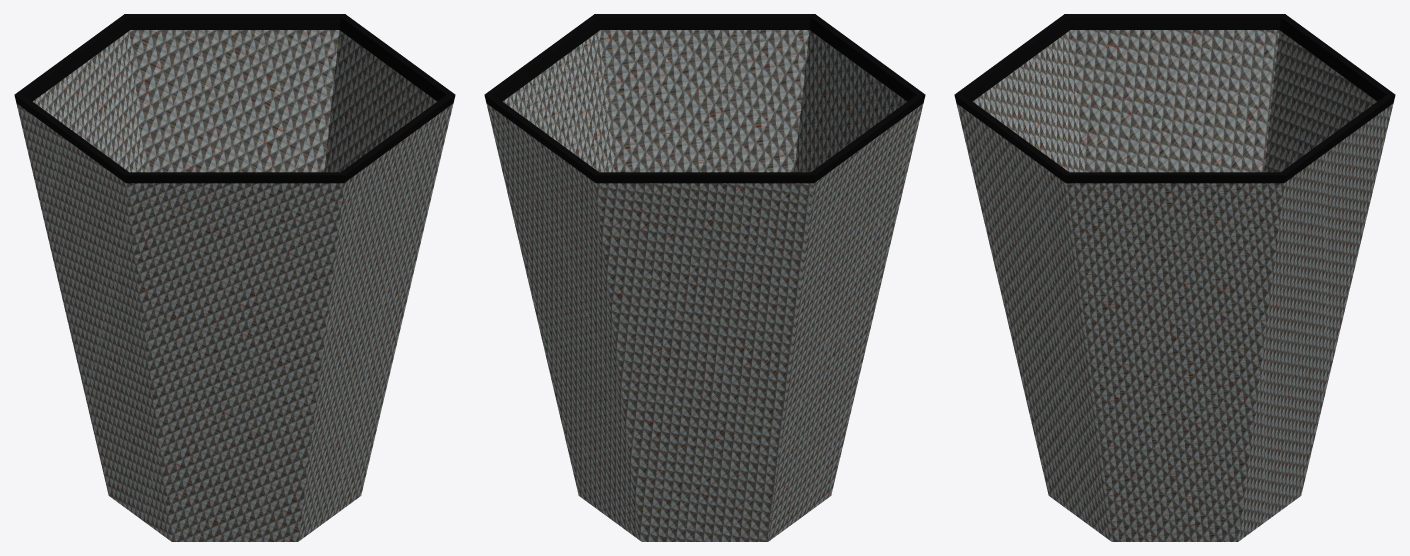
File: panierPoubelle.fbx
3 views of the same model, side by side, from view 1: azimuth 30°, elevation 25°; view 2: azimuth 150°, elevation 25°; view 3: azimuth 270°, elevation 25° (orthographic).
Parts seen in each view (by area): view 1: Panier_Poubelle; view 2: Panier_Poubelle; view 3: Panier_Poubelle.
Boxes of the visible parts, x1,y1,x2,y2 form: Panier_Poubelle: (14,14,455,541); Panier_Poubelle: (484,14,925,541); Panier_Poubelle: (954,14,1395,541).
Bounding box in the file's own units: 72.72 × 84.23 × 83.97.
